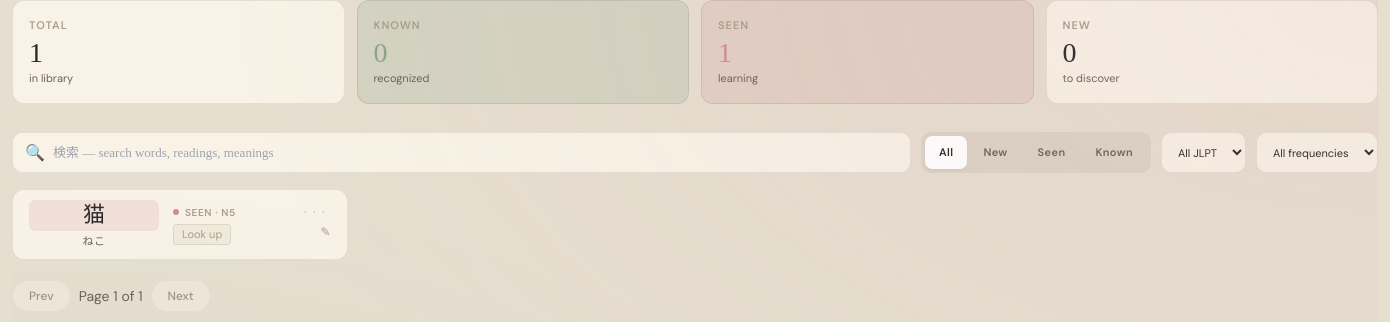
Test case: WordBrowser › look up button appears for words with no translation; clicking fetches and renders gloss
Click the button with aria-label "Look up translation for 猫".
click(202, 234)  # box [173,224,231,245]
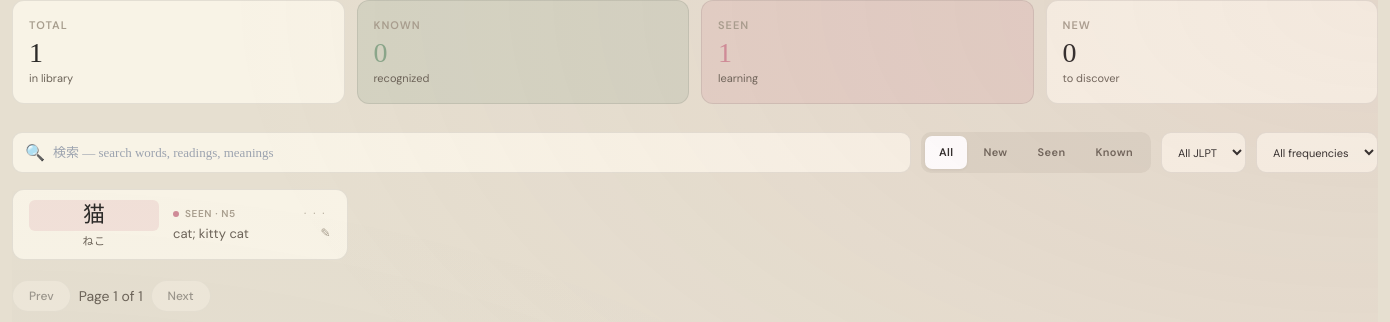
Check: the text "cat; kitty cat" is shown, box [173,225,249,242]
